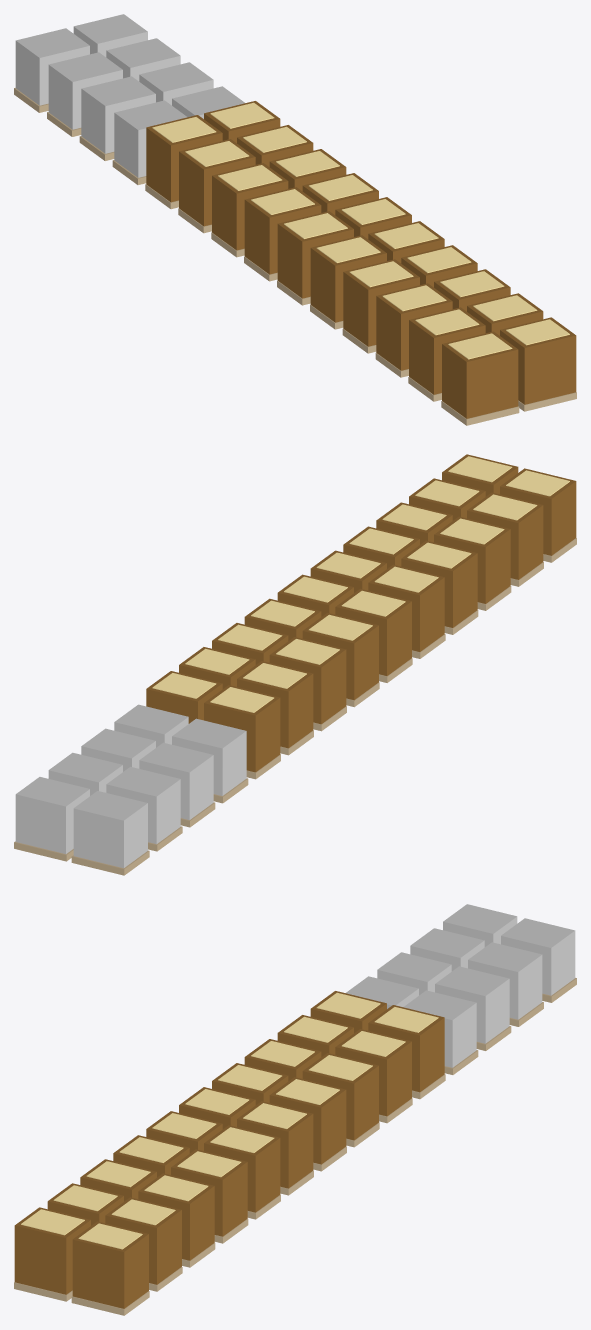
The model's file is SM_CargaViveres_Lleno_LOD1.fbx.
3 renders of one model, top to bottom at view 1: azimuth 30°, elevation 25°; view 2: azimuth 150°, elevation 25°; view 3: azimuth 330°, elevation 25°, orthographic.
Parts seen in each view (by area): view 1: SM_carga_vagon_v15_LOD1; view 2: SM_carga_vagon_v15_LOD1; view 3: SM_carga_vagon_v15_LOD1.
Part boxes in pixels (left/top/right/bottom): SM_carga_vagon_v15_LOD1: left=14, top=14, right=576, bottom=425; SM_carga_vagon_v15_LOD1: left=14, top=454, right=576, bottom=875; SM_carga_vagon_v15_LOD1: left=14, top=904, right=576, bottom=1315.
Bounding box in the file's own units: 2.52 × 1.4 × 17.9.
